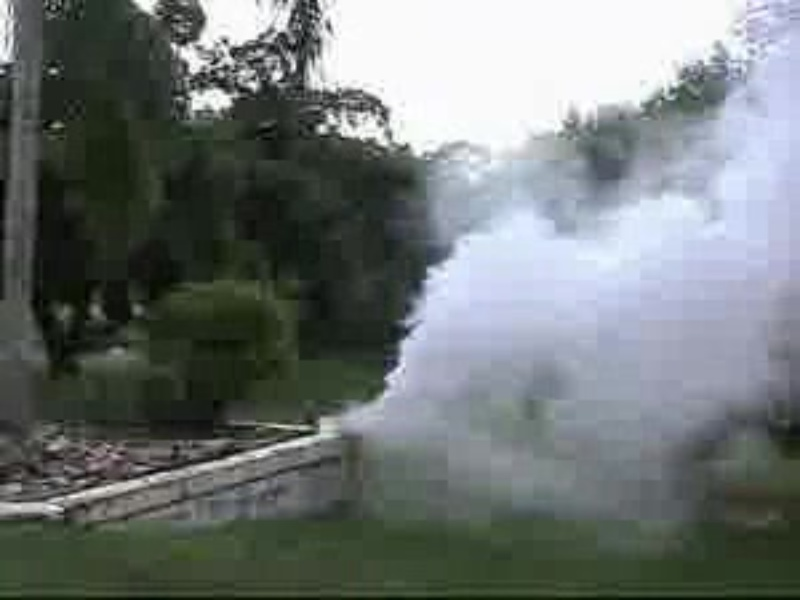smoke: (407, 183, 798, 483)
